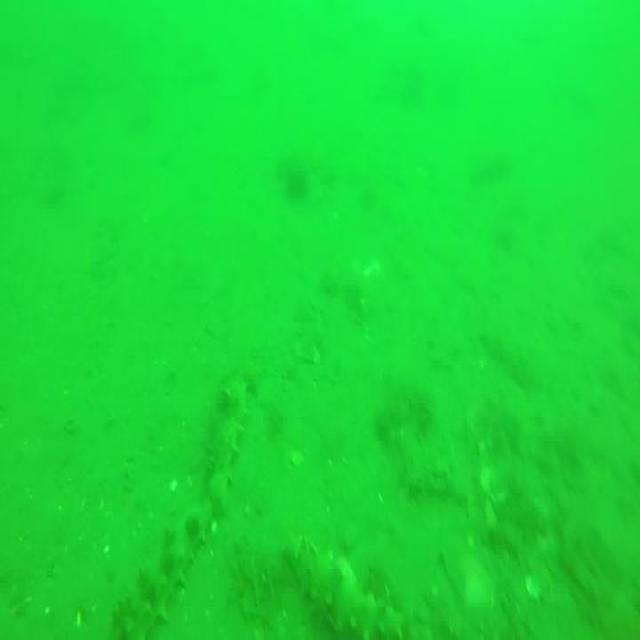echinus: (281, 168, 306, 199)
holothurian: (108, 499, 210, 640), (278, 537, 406, 640), (202, 379, 250, 512)
scallop: (522, 570, 546, 600)
